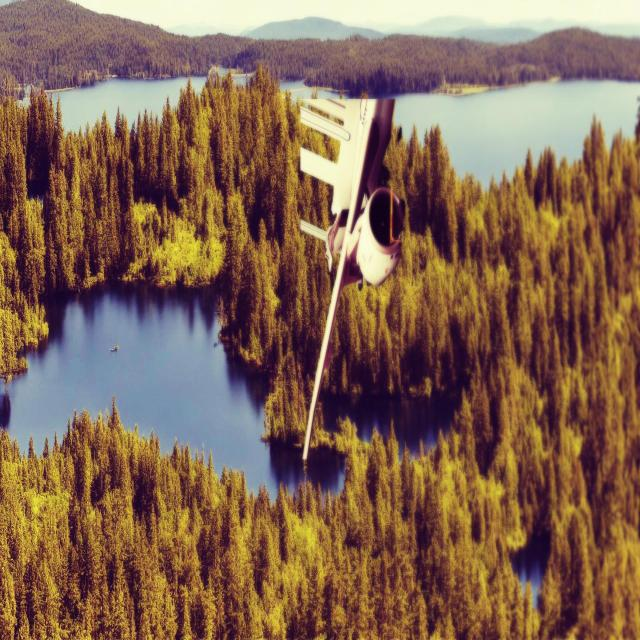airplane: (297, 93, 405, 462)
